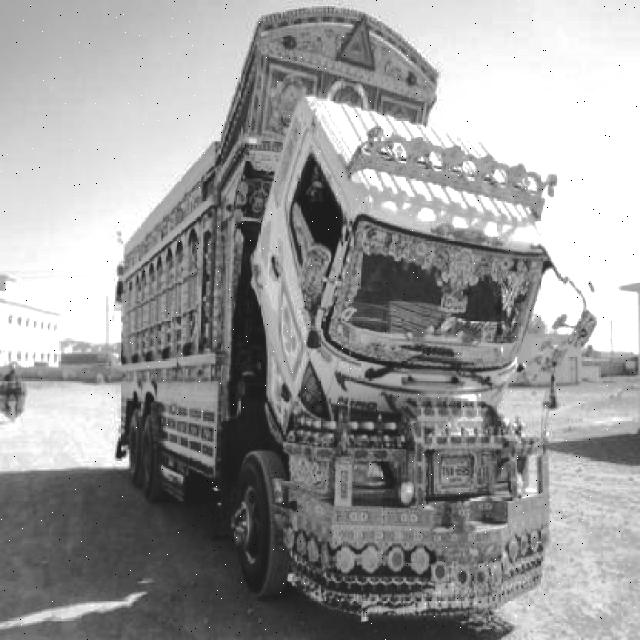HCV: (96, 122, 550, 616)
